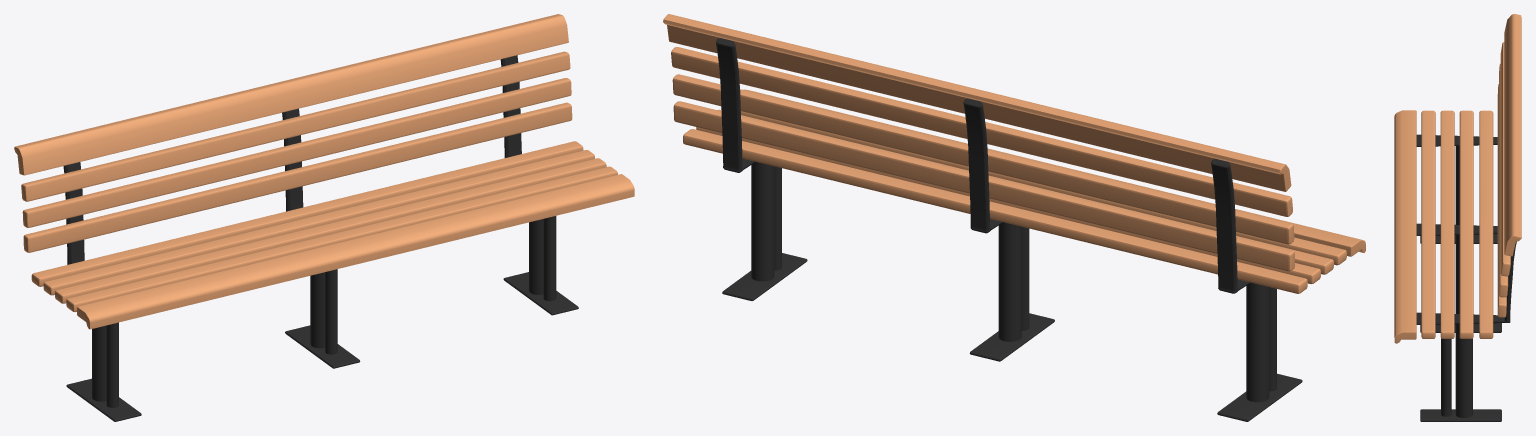
The model's file is chair.fbx.
3 renders of one model, left to right at view 1: azimuth 30°, elevation 25°; view 2: azimuth 150°, elevation 25°; view 3: azimuth 270°, elevation 25°, orthographic. The views are drawn at different scales.
Parts seen in each view (by area): view 1: chair_combined_uvs_result; view 2: chair_combined_uvs_result; view 3: chair_combined_uvs_result.
Boxes of the visible parts, x1,y1,x2,y2 form: chair_combined_uvs_result: (14,14,634,421); chair_combined_uvs_result: (663,14,1365,421); chair_combined_uvs_result: (1394,14,1521,421).
Size of the model in its own units: 24.95 by 10.63 by 6.03.
Materials: 2 (2 with a texture image).
